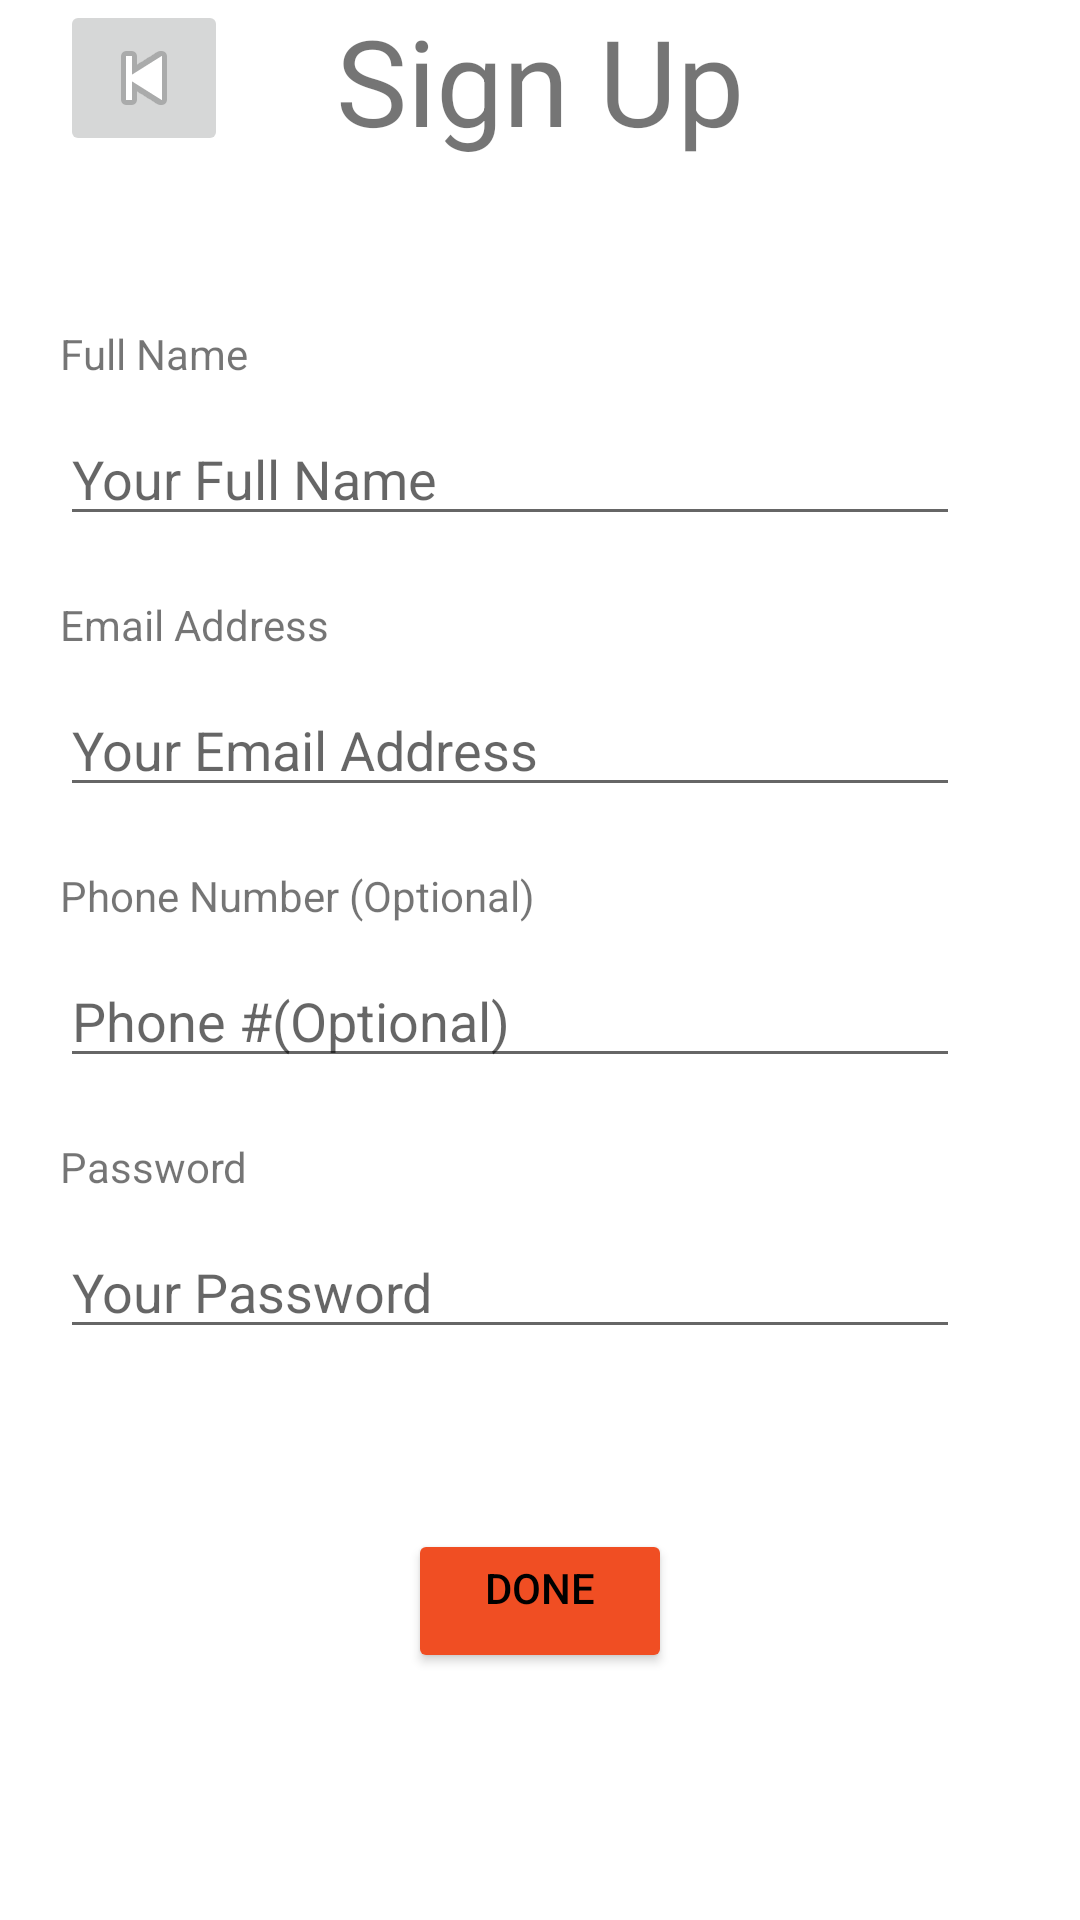

Where icons sit on this 1080px×1920px app screen, as (x1, y1, x2, y2):
previous: (72, 18, 216, 138)
